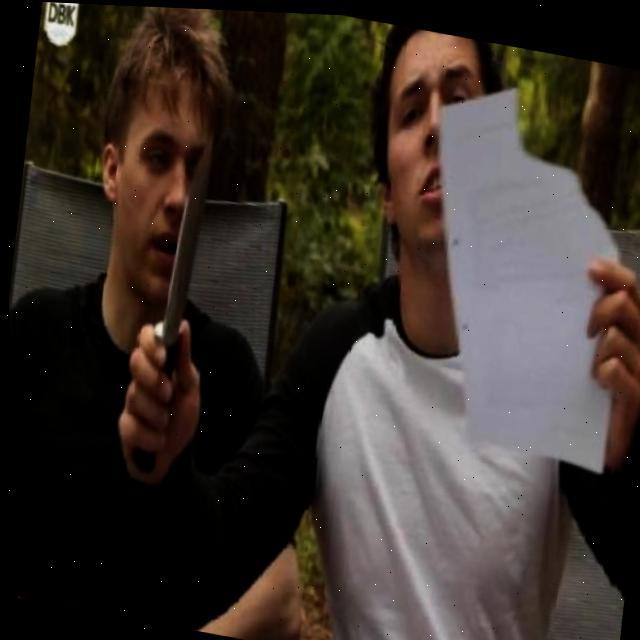knife: (124, 188, 196, 477)
